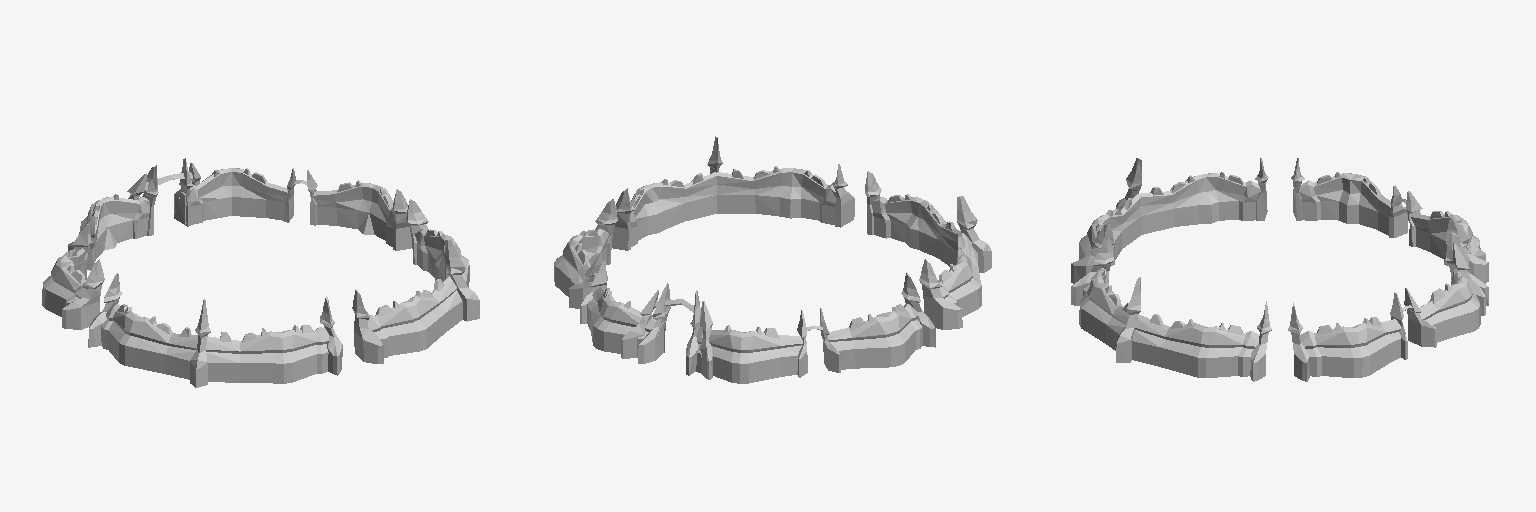
File: citywalls_metal.obj
3 renders of one model, left to right at view 1: azimuth 30°, elevation 25°; view 2: azimuth 150°, elevation 25°; view 3: azimuth 270°, elevation 25°, orthographic.
Visible parts, largest first — view 1: ci_castle_citywalls_large_COPY; view 2: ci_castle_citywalls_large_COPY; view 3: ci_castle_citywalls_large_COPY.
Part boxes in pixels (bbox=[...]): ci_castle_citywalls_large_COPY: bbox=[42, 158, 479, 387]; ci_castle_citywalls_large_COPY: bbox=[554, 136, 991, 383]; ci_castle_citywalls_large_COPY: bbox=[1071, 158, 1488, 381].
Size of the model in its own units: 128 by 25.33 by 128.